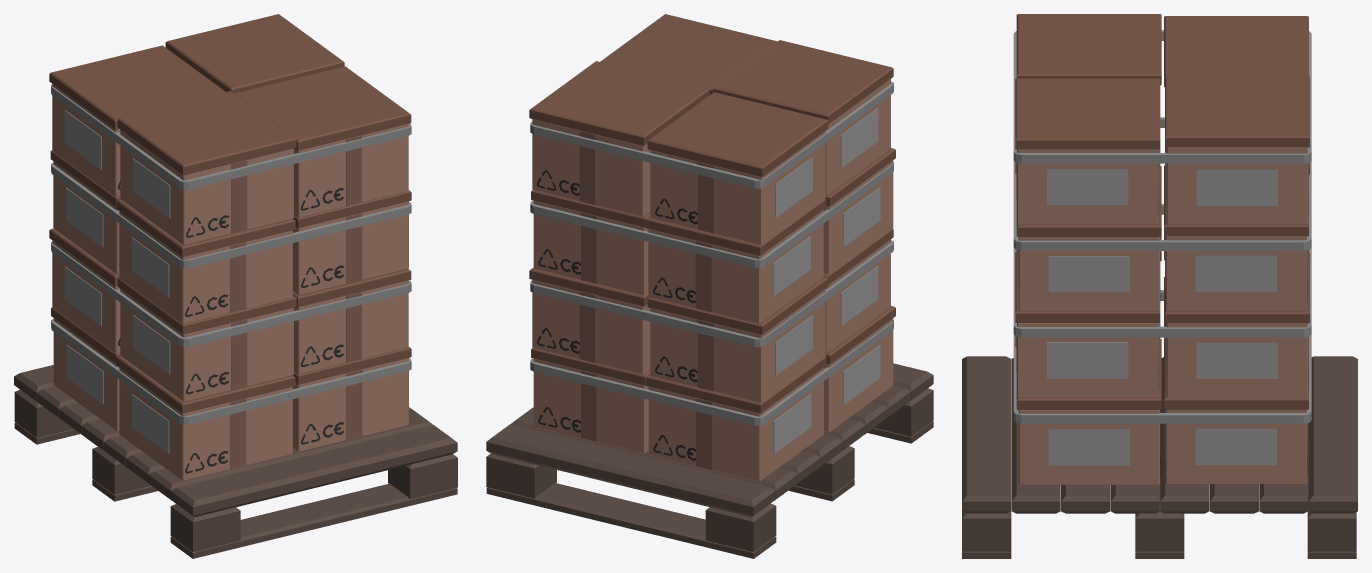
The model's file is props_22.glb.
3 renders of one model, left to right at view 1: azimuth 30°, elevation 25°; view 2: azimuth 150°, elevation 25°; view 3: azimuth 270°, elevation 25°, orthographic. The views are drawn at different scales.
Visible parts, largest first — view 1: props_22; view 2: props_22; view 3: props_22.
Boxes of the visible parts, <box> form: props_22: <box>14,14,457,558</box>; props_22: <box>486,14,933,558</box>; props_22: <box>962,14,1357,558</box>.
Bounding box in the file's own units: 1.7 × 2.28 × 1.99.
Materials: 1 (1 with a texture image).
